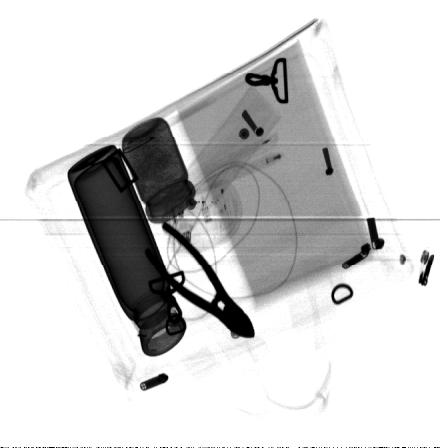Pliers: (144, 219, 255, 339)
